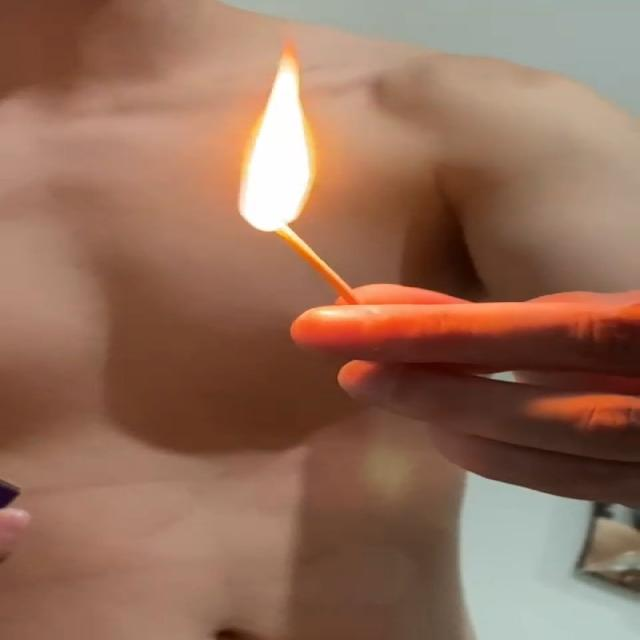fogo-ypXI: (236, 33, 319, 235)
